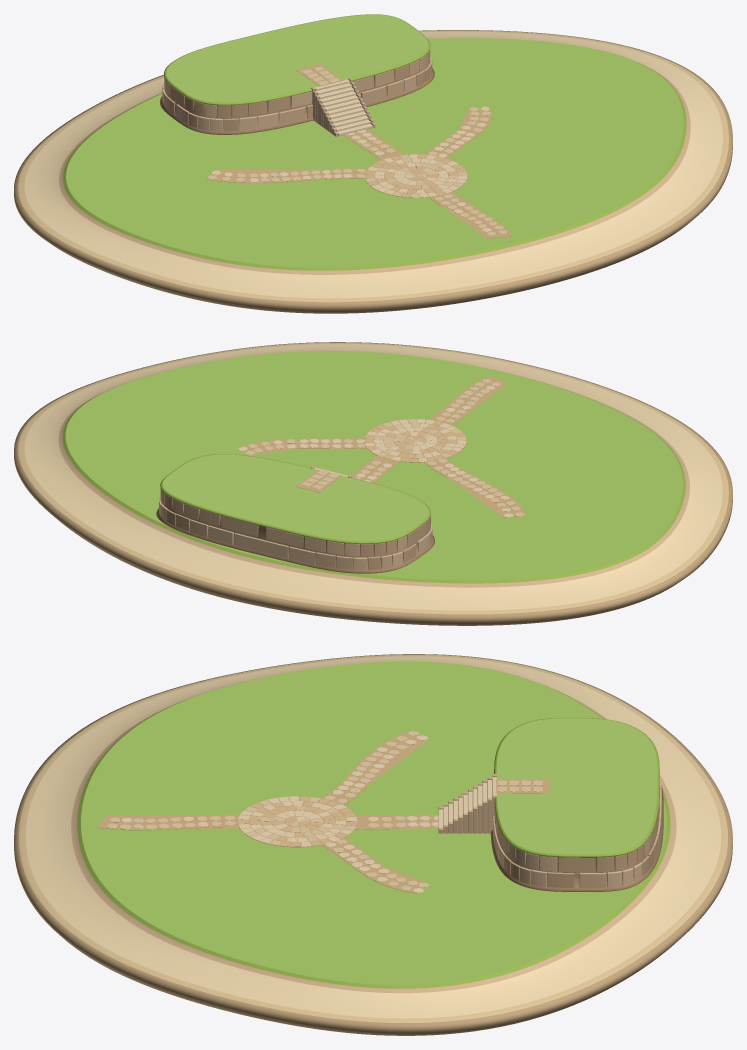
Rendered from SM_IslandTerrain.fbx.
3 views of the same model, one above another, from view 1: azimuth 30°, elevation 25°; view 2: azimuth 150°, elevation 25°; view 3: azimuth 270°, elevation 25° (orthographic). The views are drawn at different scales.
Visible parts, largest first — view 1: SM_IslandTerrain; view 2: SM_IslandTerrain; view 3: SM_IslandTerrain.
Boxes of the visible parts, bbox=[...] form: SM_IslandTerrain: bbox=[14, 14, 732, 313]; SM_IslandTerrain: bbox=[14, 342, 732, 625]; SM_IslandTerrain: bbox=[14, 654, 732, 1035].
Size of the model in its own units: 9005 by 7340 by 748.
